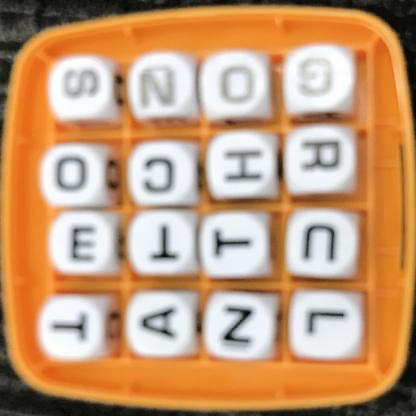a: (135, 295, 187, 352)
c: (133, 151, 184, 197)
e: (60, 217, 111, 273)
g: (294, 52, 343, 107)
h: (216, 136, 268, 195)
n: (132, 60, 187, 115)
o: (213, 59, 262, 113), (51, 147, 95, 196)
r: (290, 129, 350, 180)
s: (45, 56, 114, 112)
t: (40, 297, 104, 353), (203, 219, 265, 270), (140, 219, 192, 272)
u: (295, 216, 345, 269)
z: (296, 293, 363, 352), (209, 293, 273, 354)
